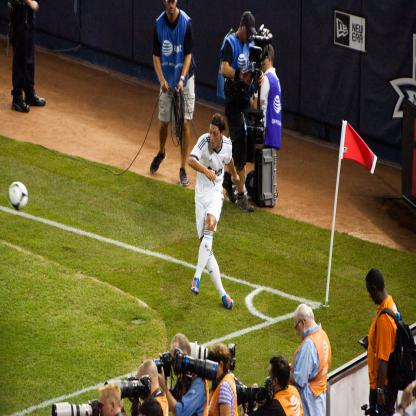corner kick: (185, 92, 389, 316)
